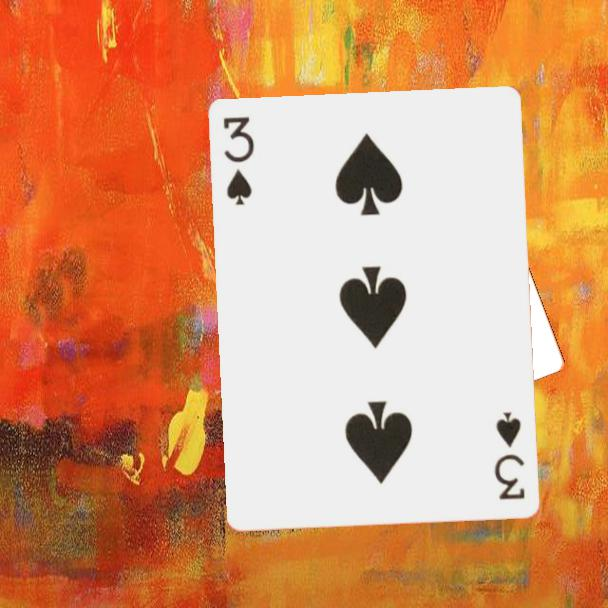s03: (491, 409, 529, 503), (220, 113, 256, 209)
